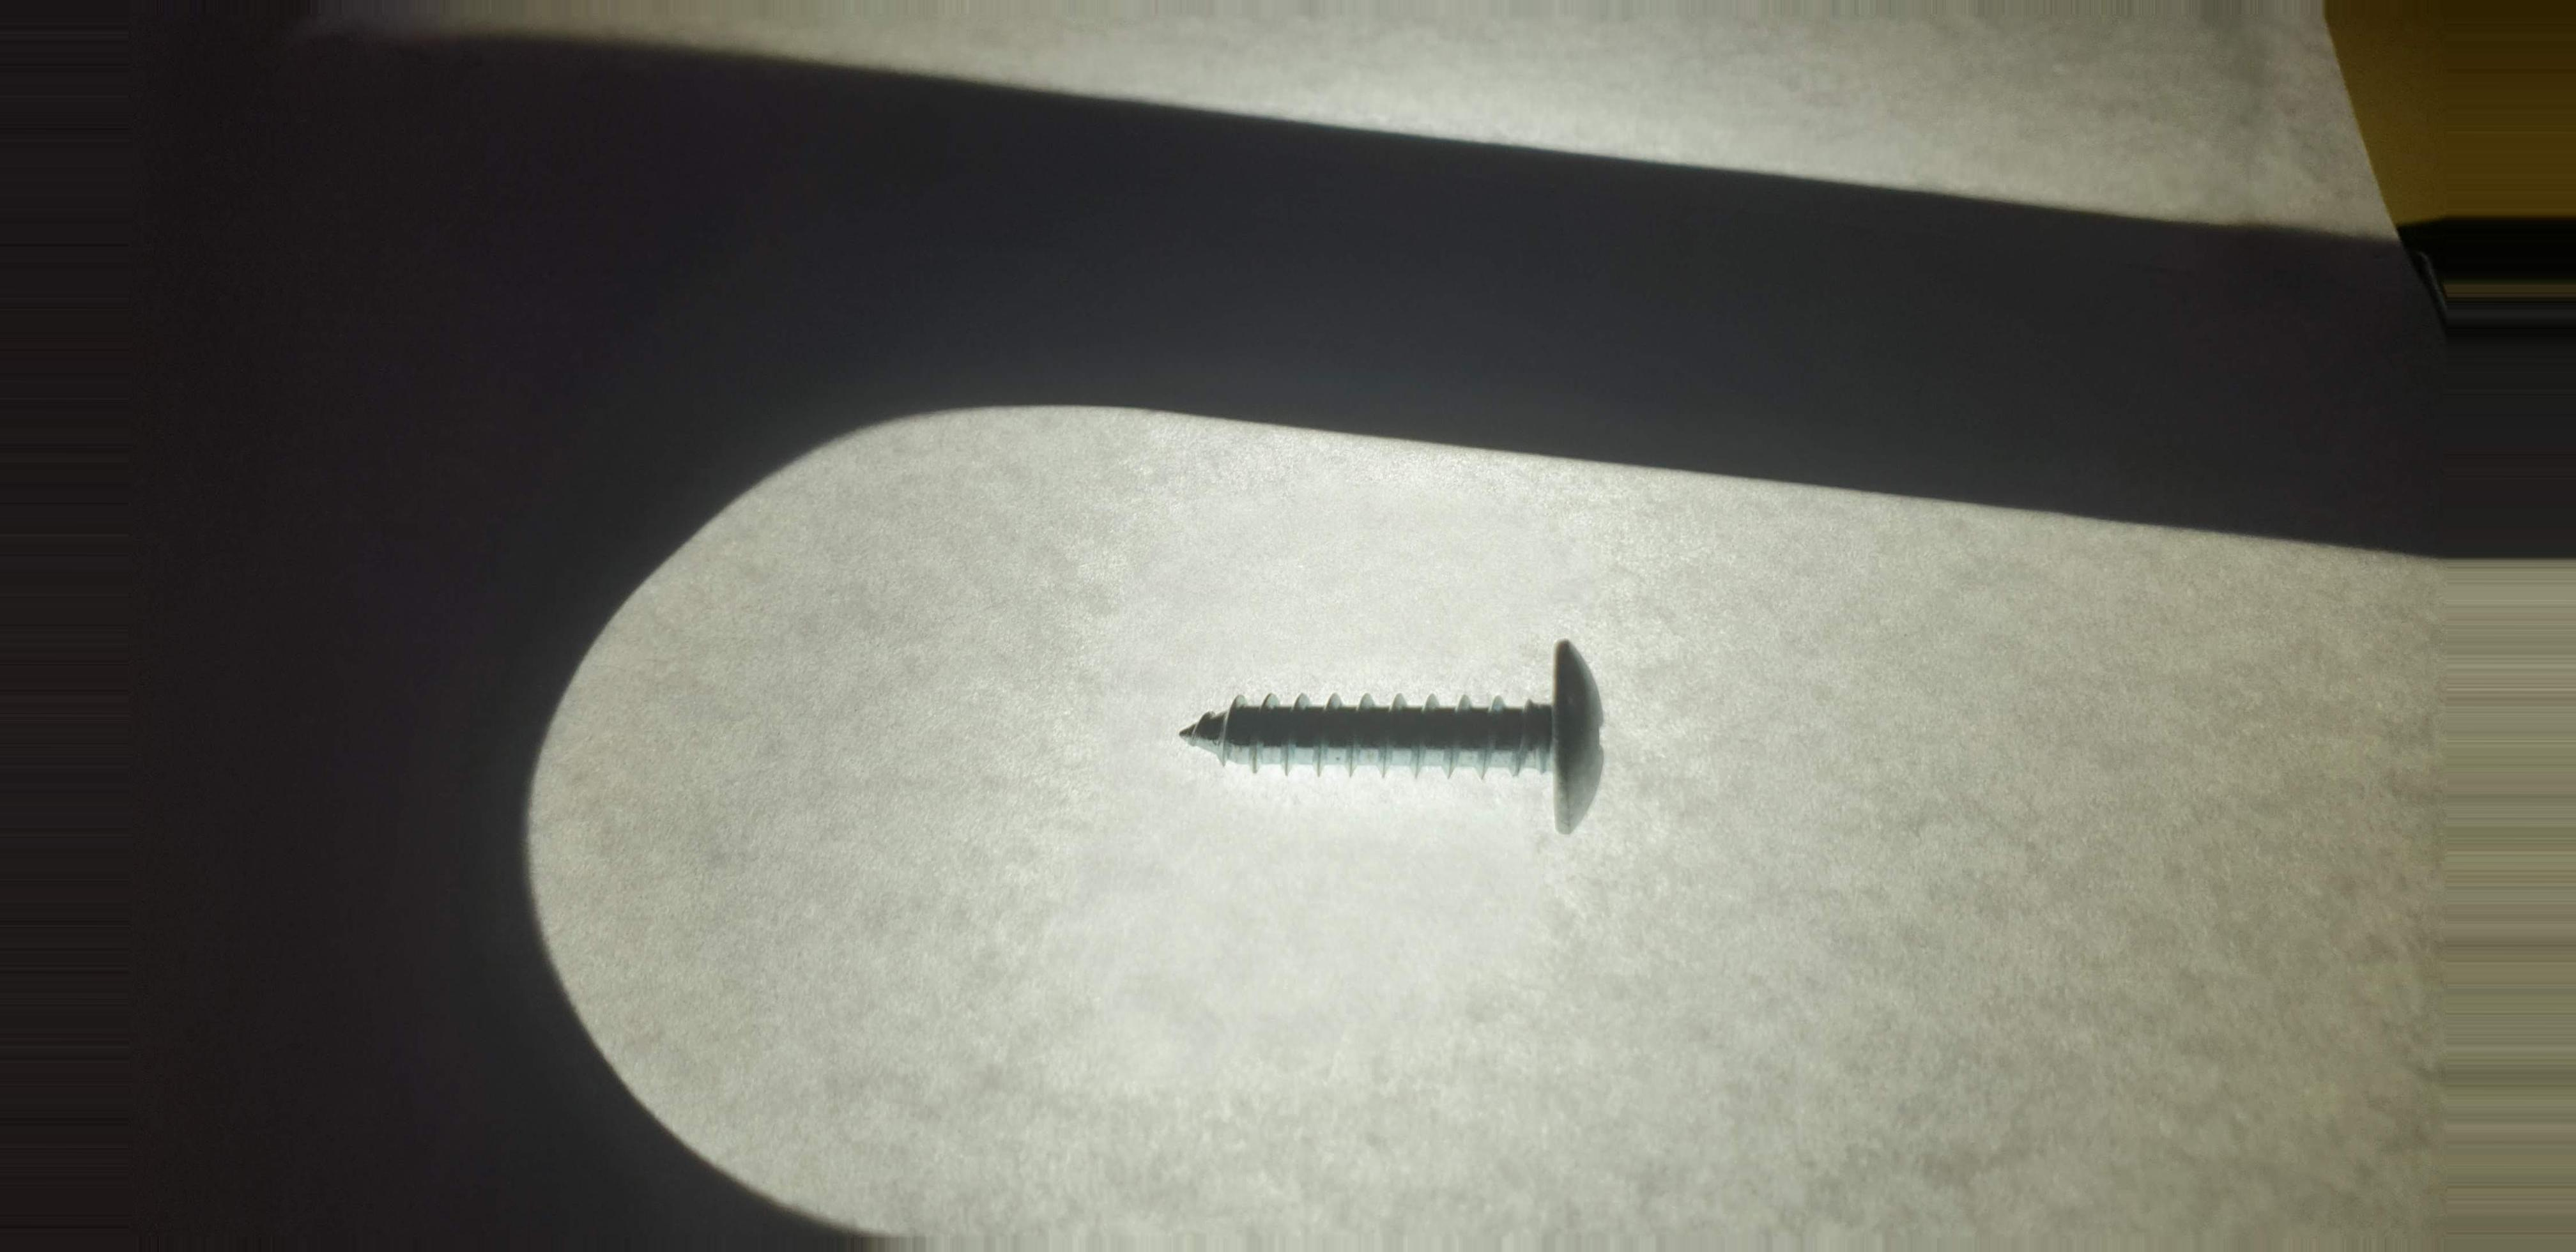S002: (1130, 601, 1682, 866)
